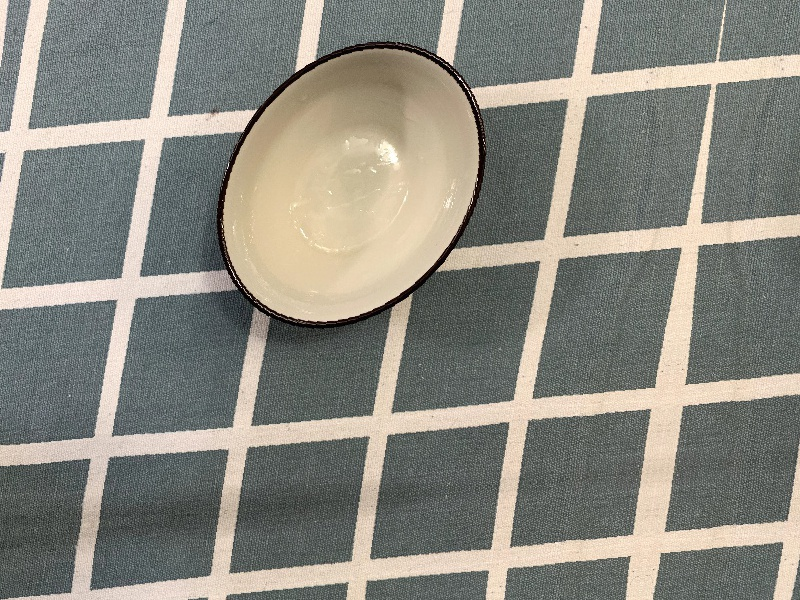bowl_small: (187, 22, 512, 350)
